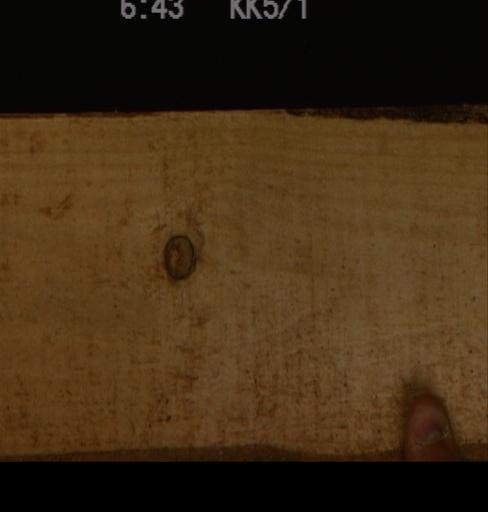dry_knot: (159, 232, 194, 281)
wave: (0, 102, 486, 121), (0, 441, 402, 460)
